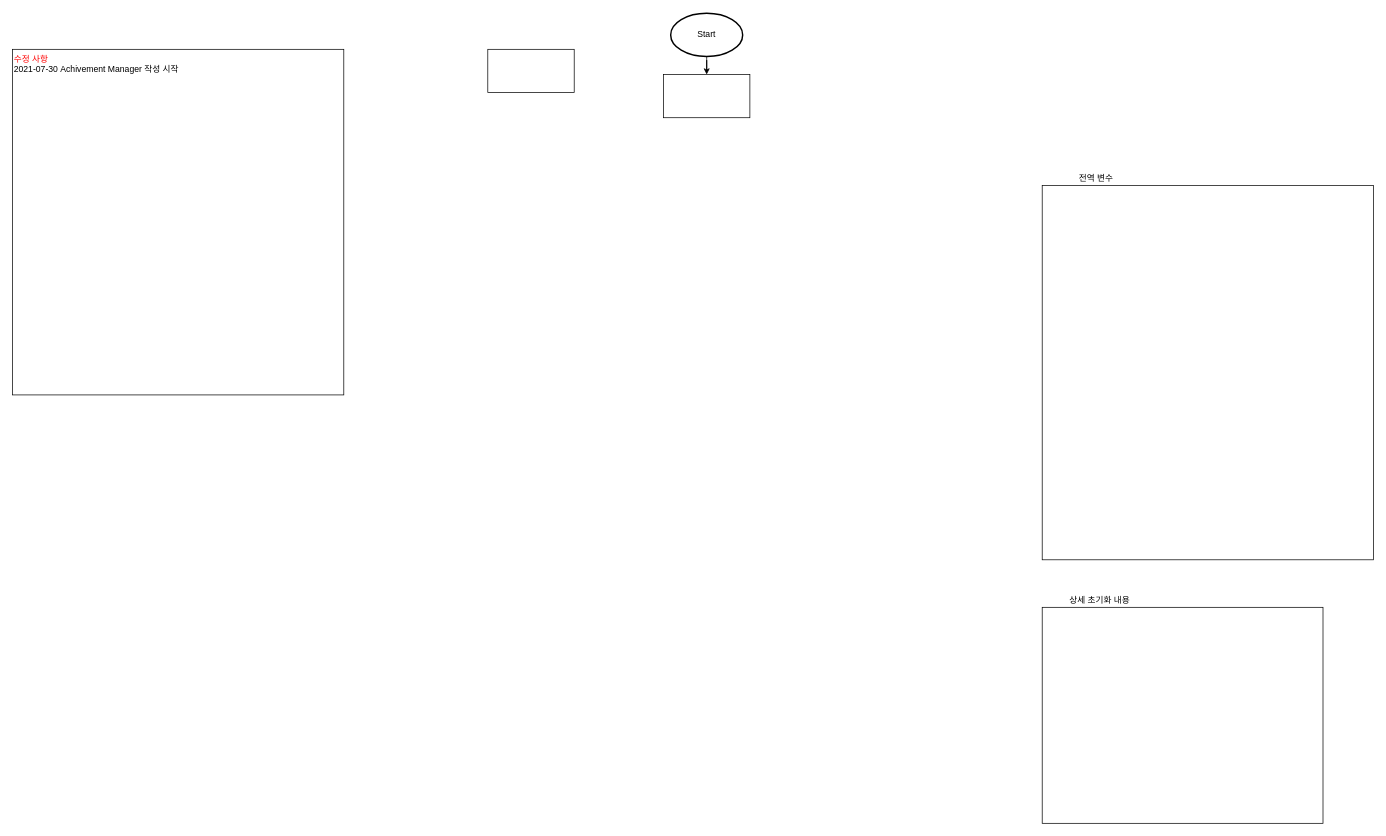
Image size: 1386x836. Some labels were removed from this diagram. Each missing label, with the centre of its shape:
"업적 관리하는 매니저 한 게임에 하나." belongs at point 530,71.
"초기화" belongs at point 706,96.
